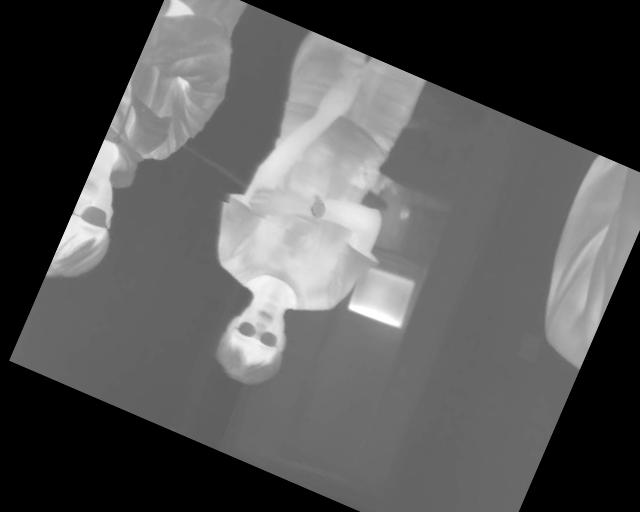face: (205, 288, 302, 395)
